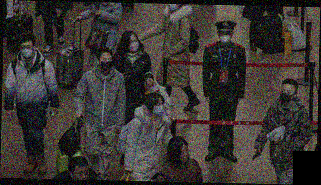with_mask: (18, 43, 36, 58), (99, 56, 115, 72), (280, 87, 295, 104), (150, 101, 165, 117), (218, 31, 232, 46), (127, 38, 140, 53)
without_mask: (178, 147, 191, 163), (75, 168, 90, 180)
